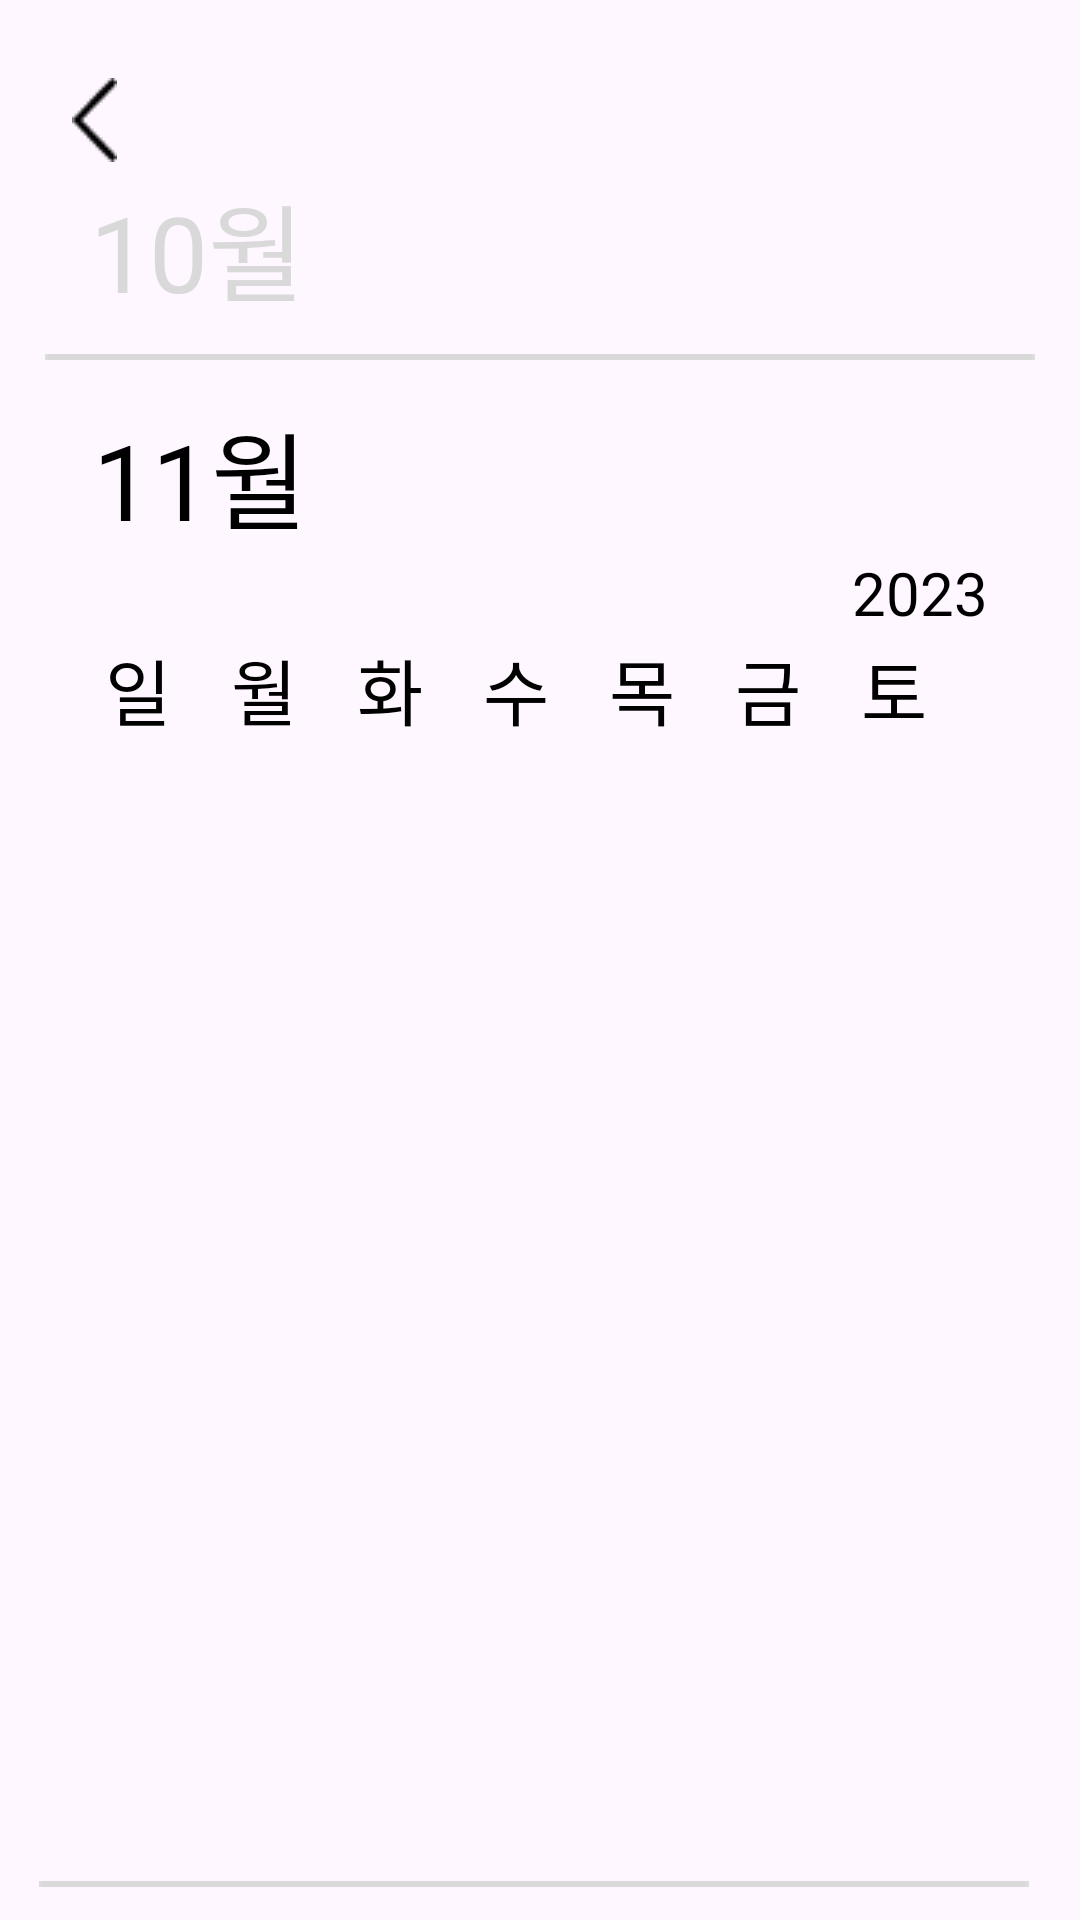

Locate icon controls on the screen. Image size 1080 × 1920, boxes as {"x1": x1, "y1": y1, "x2": x2, "y2": y2}.
arrow: {"x1": 72, "y1": 78, "x2": 117, "y2": 162}
